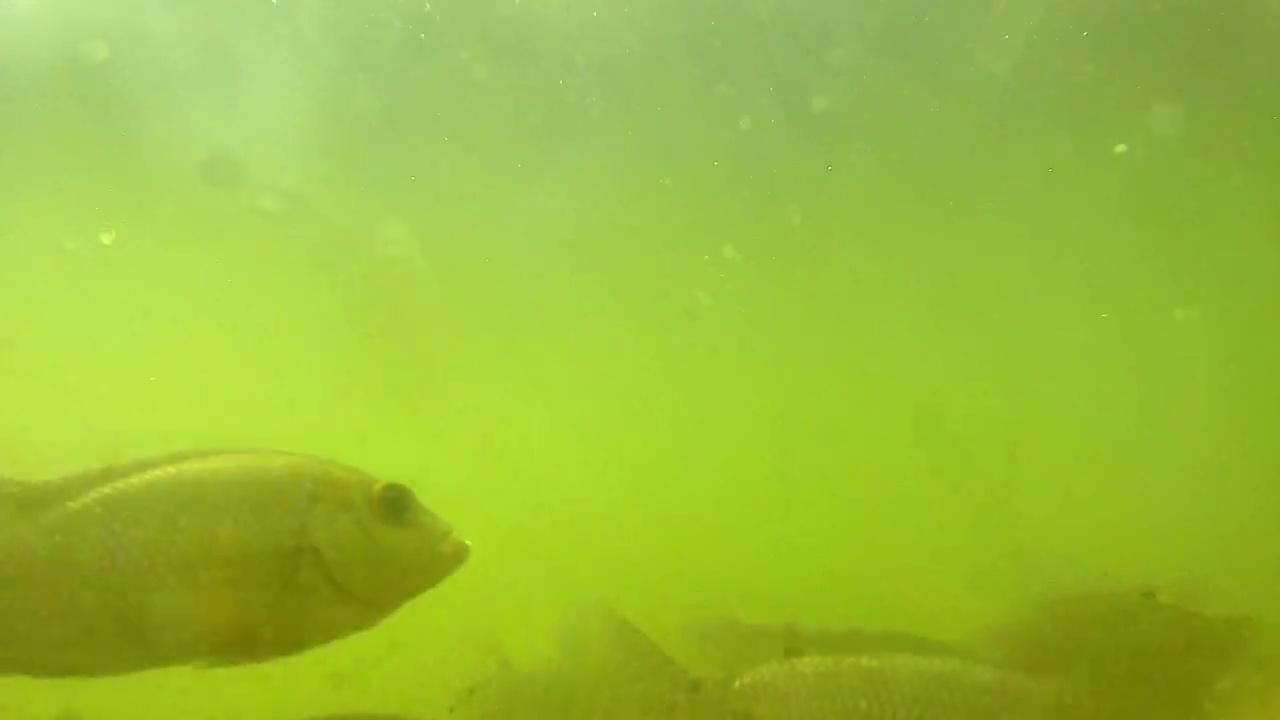Tilapia: (0, 390, 505, 698)
